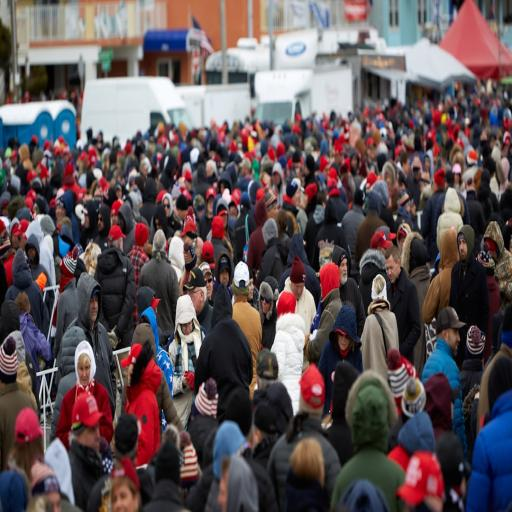face: (76, 424, 100, 452), (188, 288, 204, 313), (386, 255, 400, 283), (446, 329, 460, 355), (78, 357, 90, 387), (290, 281, 304, 301), (89, 295, 98, 325), (338, 333, 350, 351), (339, 259, 347, 285), (205, 274, 213, 300), (458, 238, 467, 261), (219, 268, 230, 286), (181, 321, 193, 335), (261, 297, 270, 314), (163, 199, 171, 217), (97, 214, 104, 231)
